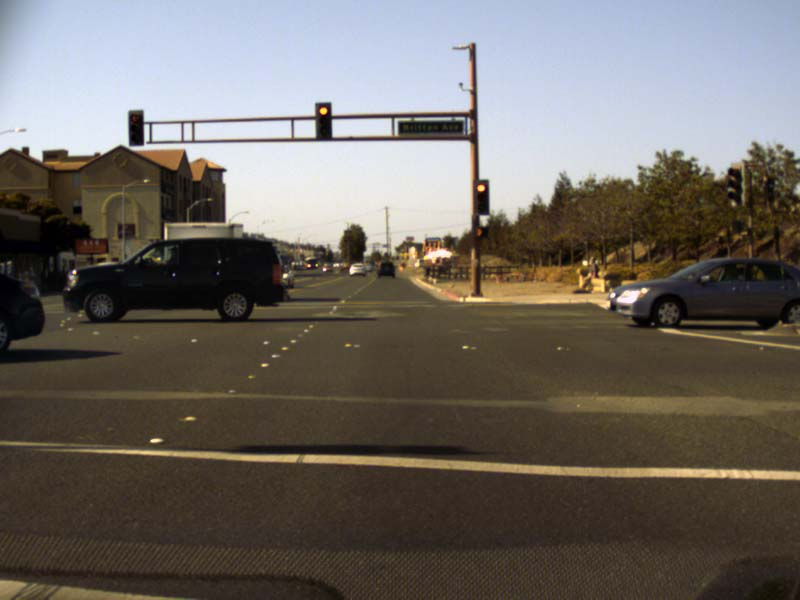Red: (315, 102, 332, 138), (474, 179, 489, 212), (130, 110, 143, 143), (474, 225, 486, 236)
